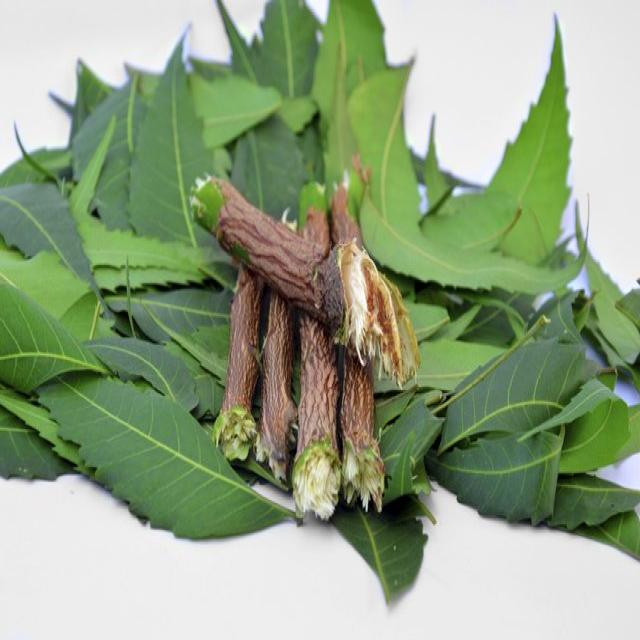Medicinal-Neem: (0, 46, 245, 543), (418, 137, 640, 557), (171, 8, 421, 180)
